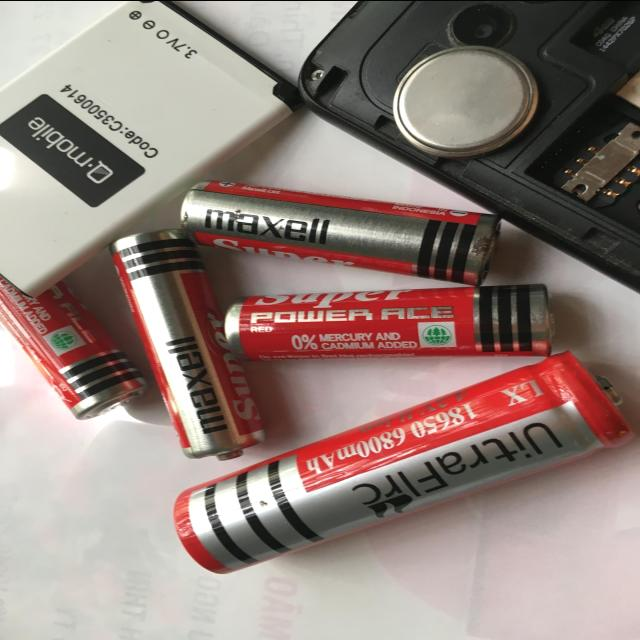AA: (103, 222, 270, 467), (171, 173, 507, 287), (222, 279, 556, 364)
COIN: (391, 43, 542, 158)
